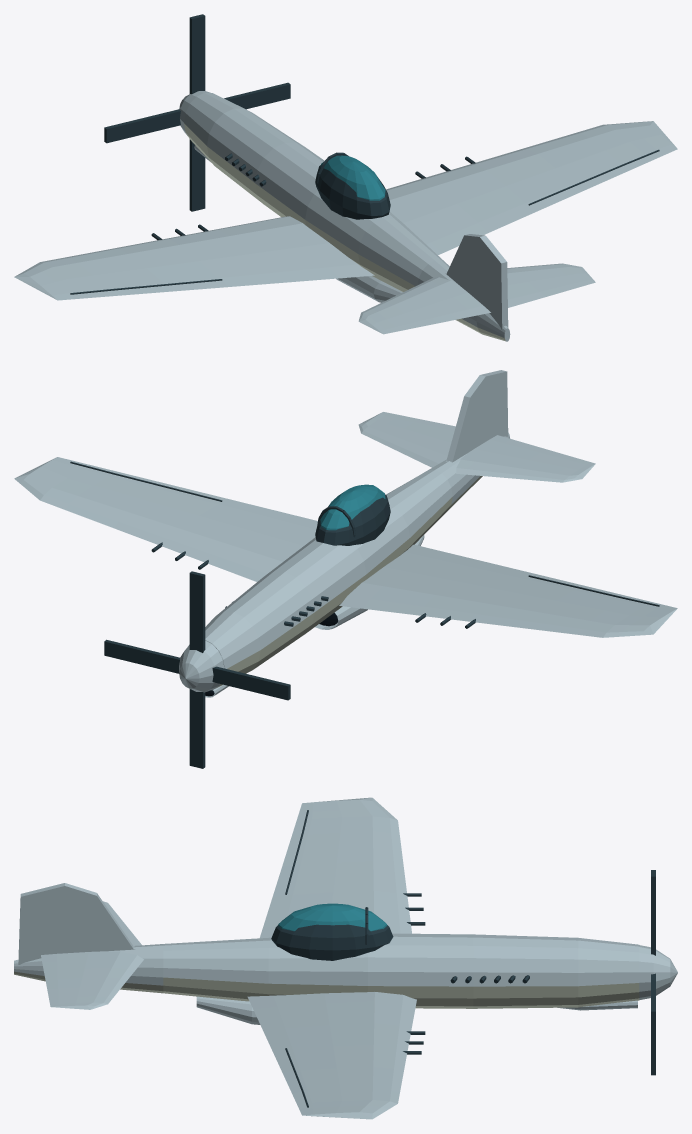
Rendered from archive-p51d.glb.
3 renders of one model, top to bottom at view 1: azimuth 30°, elevation 25°; view 2: azimuth 150°, elevation 25°; view 3: azimuth 270°, elevation 25°, orthographic. The views are drawn at different scales.
Parts seen in each view (by area): view 1: archive-p51d-wing_0_1.004-geometry, archive-p51d-fuselage.004-geometry, archive-p51d-wing_0_-1.004-geometry, archive-p51d-propeller_00.004-geometry, archive-p51d-tailplane.008-geometry, archive-p51d-archive-p51d-geometry, archive-p51d-vertical_tail.004-geometry, archive-p51d-tailplane.009-geometry, archive-p51d-belly_radiator-geometry; view 2: archive-p51d-wing_0_1.004-geometry, archive-p51d-fuselage.004-geometry, archive-p51d-wing_0_-1.004-geometry, archive-p51d-propeller_00.004-geometry, archive-p51d-tailplane.008-geometry, archive-p51d-archive-p51d-geometry, archive-p51d-vertical_tail.004-geometry, archive-p51d-tailplane.009-geometry, archive-p51d-spinner.001-geometry, archive-p51d-belly_radiator-geometry; view 3: archive-p51d-fuselage.004-geometry, archive-p51d-wing_0_1.004-geometry, archive-p51d-wing_0_-1.004-geometry, archive-p51d-vertical_tail.004-geometry, archive-p51d-archive-p51d-geometry, archive-p51d-tailplane.009-geometry, archive-p51d-spinner.001-geometry, archive-p51d-belly_radiator-geometry, archive-p51d-propeller_00.004-geometry.
Boxes of the visible parts, x1=… form: archive-p51d-wing_0_1.004-geometry: x1=386, y1=121, x2=677, y2=255; archive-p51d-fuselage.004-geometry: x1=184, y1=93, x2=510, y2=341; archive-p51d-wing_0_-1.004-geometry: x1=14, y1=216, x2=374, y2=300; archive-p51d-propeller_00.004-geometry: x1=104, y1=14, x2=290, y2=211; archive-p51d-tailplane.008-geometry: x1=358, y1=277, x2=490, y2=334; archive-p51d-archive-p51d-geometry: x1=151, y1=152, x2=475, y2=240; archive-p51d-vertical_tail.004-geometry: x1=446, y1=234, x2=508, y2=329; archive-p51d-tailplane.009-geometry: x1=507, y1=263, x2=595, y2=307; archive-p51d-belly_radiator-geometry: x1=336, y1=276, x2=402, y2=302; archive-p51d-wing_0_1.004-geometry: x1=14, y1=457, x2=317, y2=581; archive-p51d-fuselage.004-geometry: x1=205, y1=432, x2=509, y2=690; archive-p51d-wing_0_-1.004-geometry: x1=339, y1=544, x2=677, y2=637; archive-p51d-propeller_00.004-geometry: x1=104, y1=571, x2=290, y2=768; archive-p51d-tailplane.008-geometry: x1=456, y1=435, x2=595, y2=482; archive-p51d-archive-p51d-geometry: x1=151, y1=484, x2=475, y2=628; archive-p51d-vertical_tail.004-geometry: x1=446, y1=370, x2=508, y2=462; archive-p51d-tailplane.009-geometry: x1=358, y1=412, x2=455, y2=467; archive-p51d-spinner.001-geometry: x1=179, y1=640, x2=224, y2=692; archive-p51d-belly_radiator-geometry: x1=315, y1=535, x2=424, y2=629; archive-p51d-fuselage.004-geometry: x1=14, y1=933, x2=639, y2=1008; archive-p51d-wing_0_1.004-geometry: x1=247, y1=992, x2=416, y2=1119; archive-p51d-wing_0_-1.004-geometry: x1=260, y1=797, x2=411, y2=938; archive-p51d-vertical_tail.004-geometry: x1=18, y1=883, x2=134, y2=964; archive-p51d-archive-p51d-geometry: x1=271, y1=893, x2=529, y2=1054; archive-p51d-tailplane.009-geometry: x1=41, y1=951, x2=143, y2=1009; archive-p51d-spinner.001-geometry: x1=639, y1=945, x2=677, y2=999; archive-p51d-belly_radiator-geometry: x1=196, y1=996, x2=260, y2=1024; archive-p51d-propeller_00.004-geometry: x1=651, y1=870, x2=655, y2=1075.
Bounding box in the file's own units: 6.89 × 1.98 × 6.
